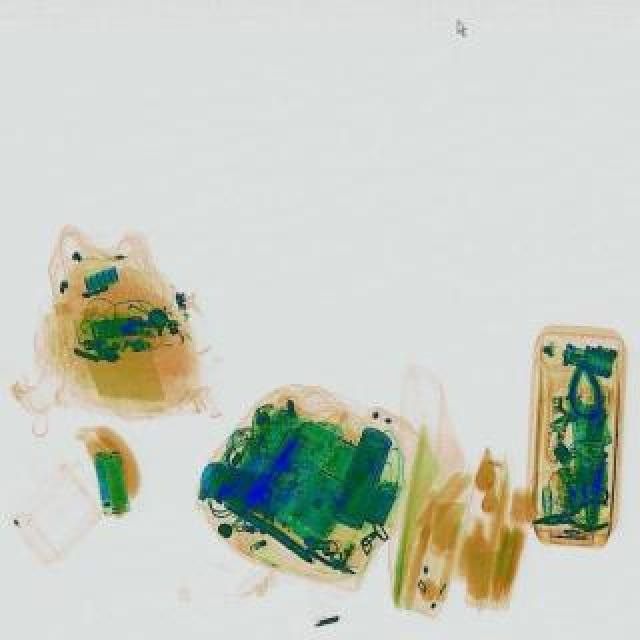wrench: (530, 494, 610, 538)
